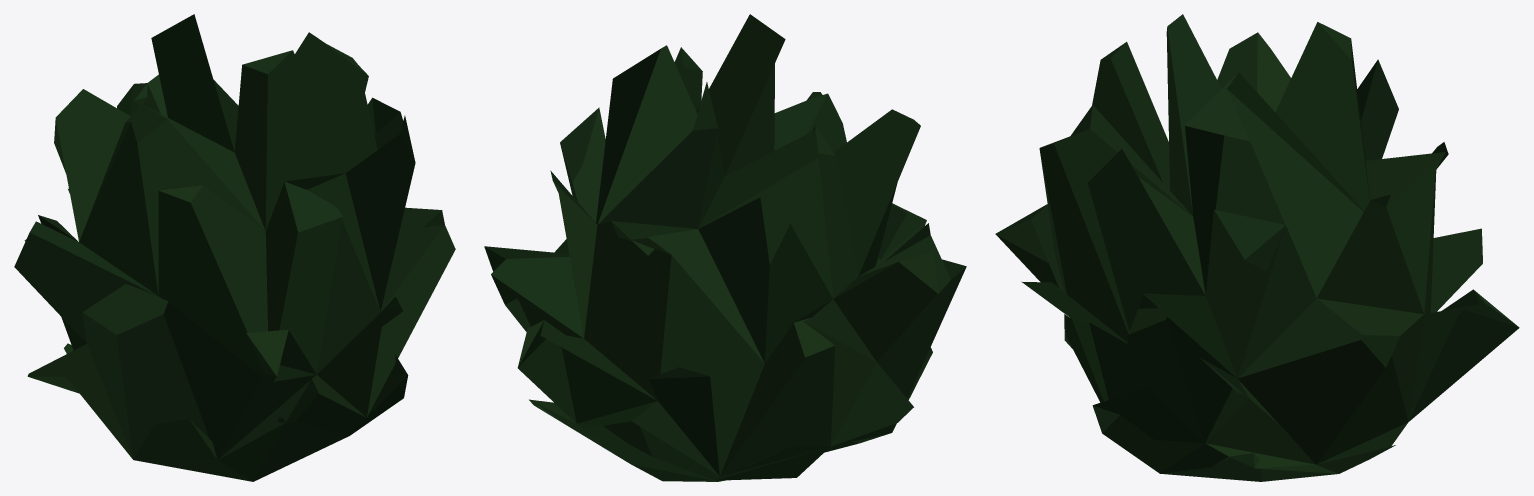
Rendered from Dandelion_Buisson1_Normal.FBX.
The picture shows the model from 3 angles, left to right: view 1: azimuth 30°, elevation 25°; view 2: azimuth 150°, elevation 25°; view 3: azimuth 270°, elevation 25°; orthographic projection. The views are drawn at different scales.
Visible parts, largest first — view 1: Hedra026; view 2: Hedra026; view 3: Hedra026.
Boxes of the visible parts, left/top/right/bottom form: Hedra026: left=14, top=14, right=455, bottom=481; Hedra026: left=484, top=14, right=966, bottom=481; Hedra026: left=995, top=14, right=1519, bottom=481.
Size of the model in its own units: 594 by 603 by 621.
